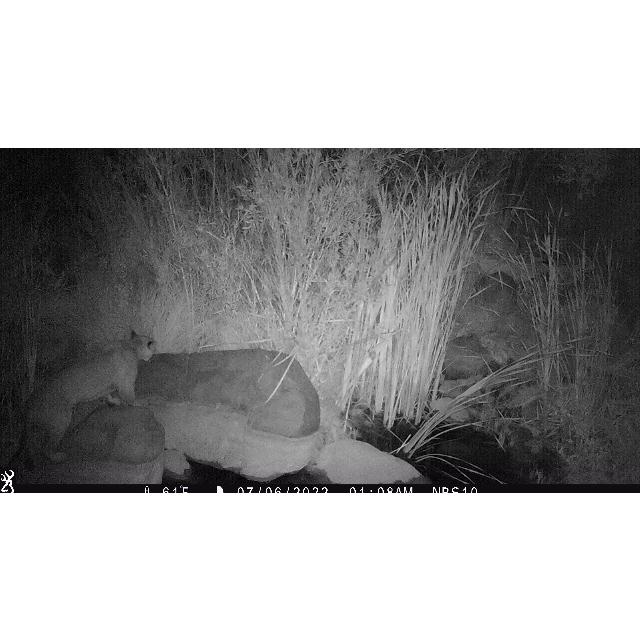animals: (9, 327, 160, 469)
